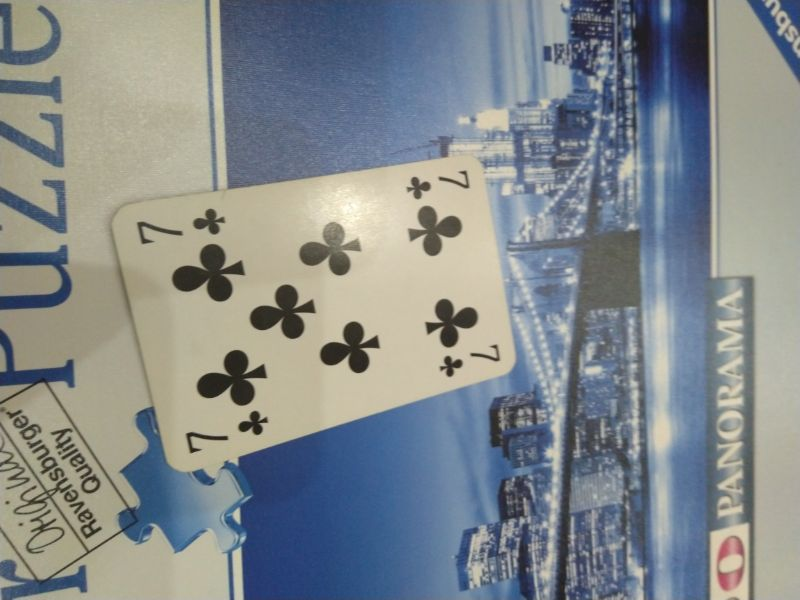7c: (183, 409, 270, 456), (135, 206, 232, 247), (437, 342, 506, 380), (405, 165, 474, 201)
